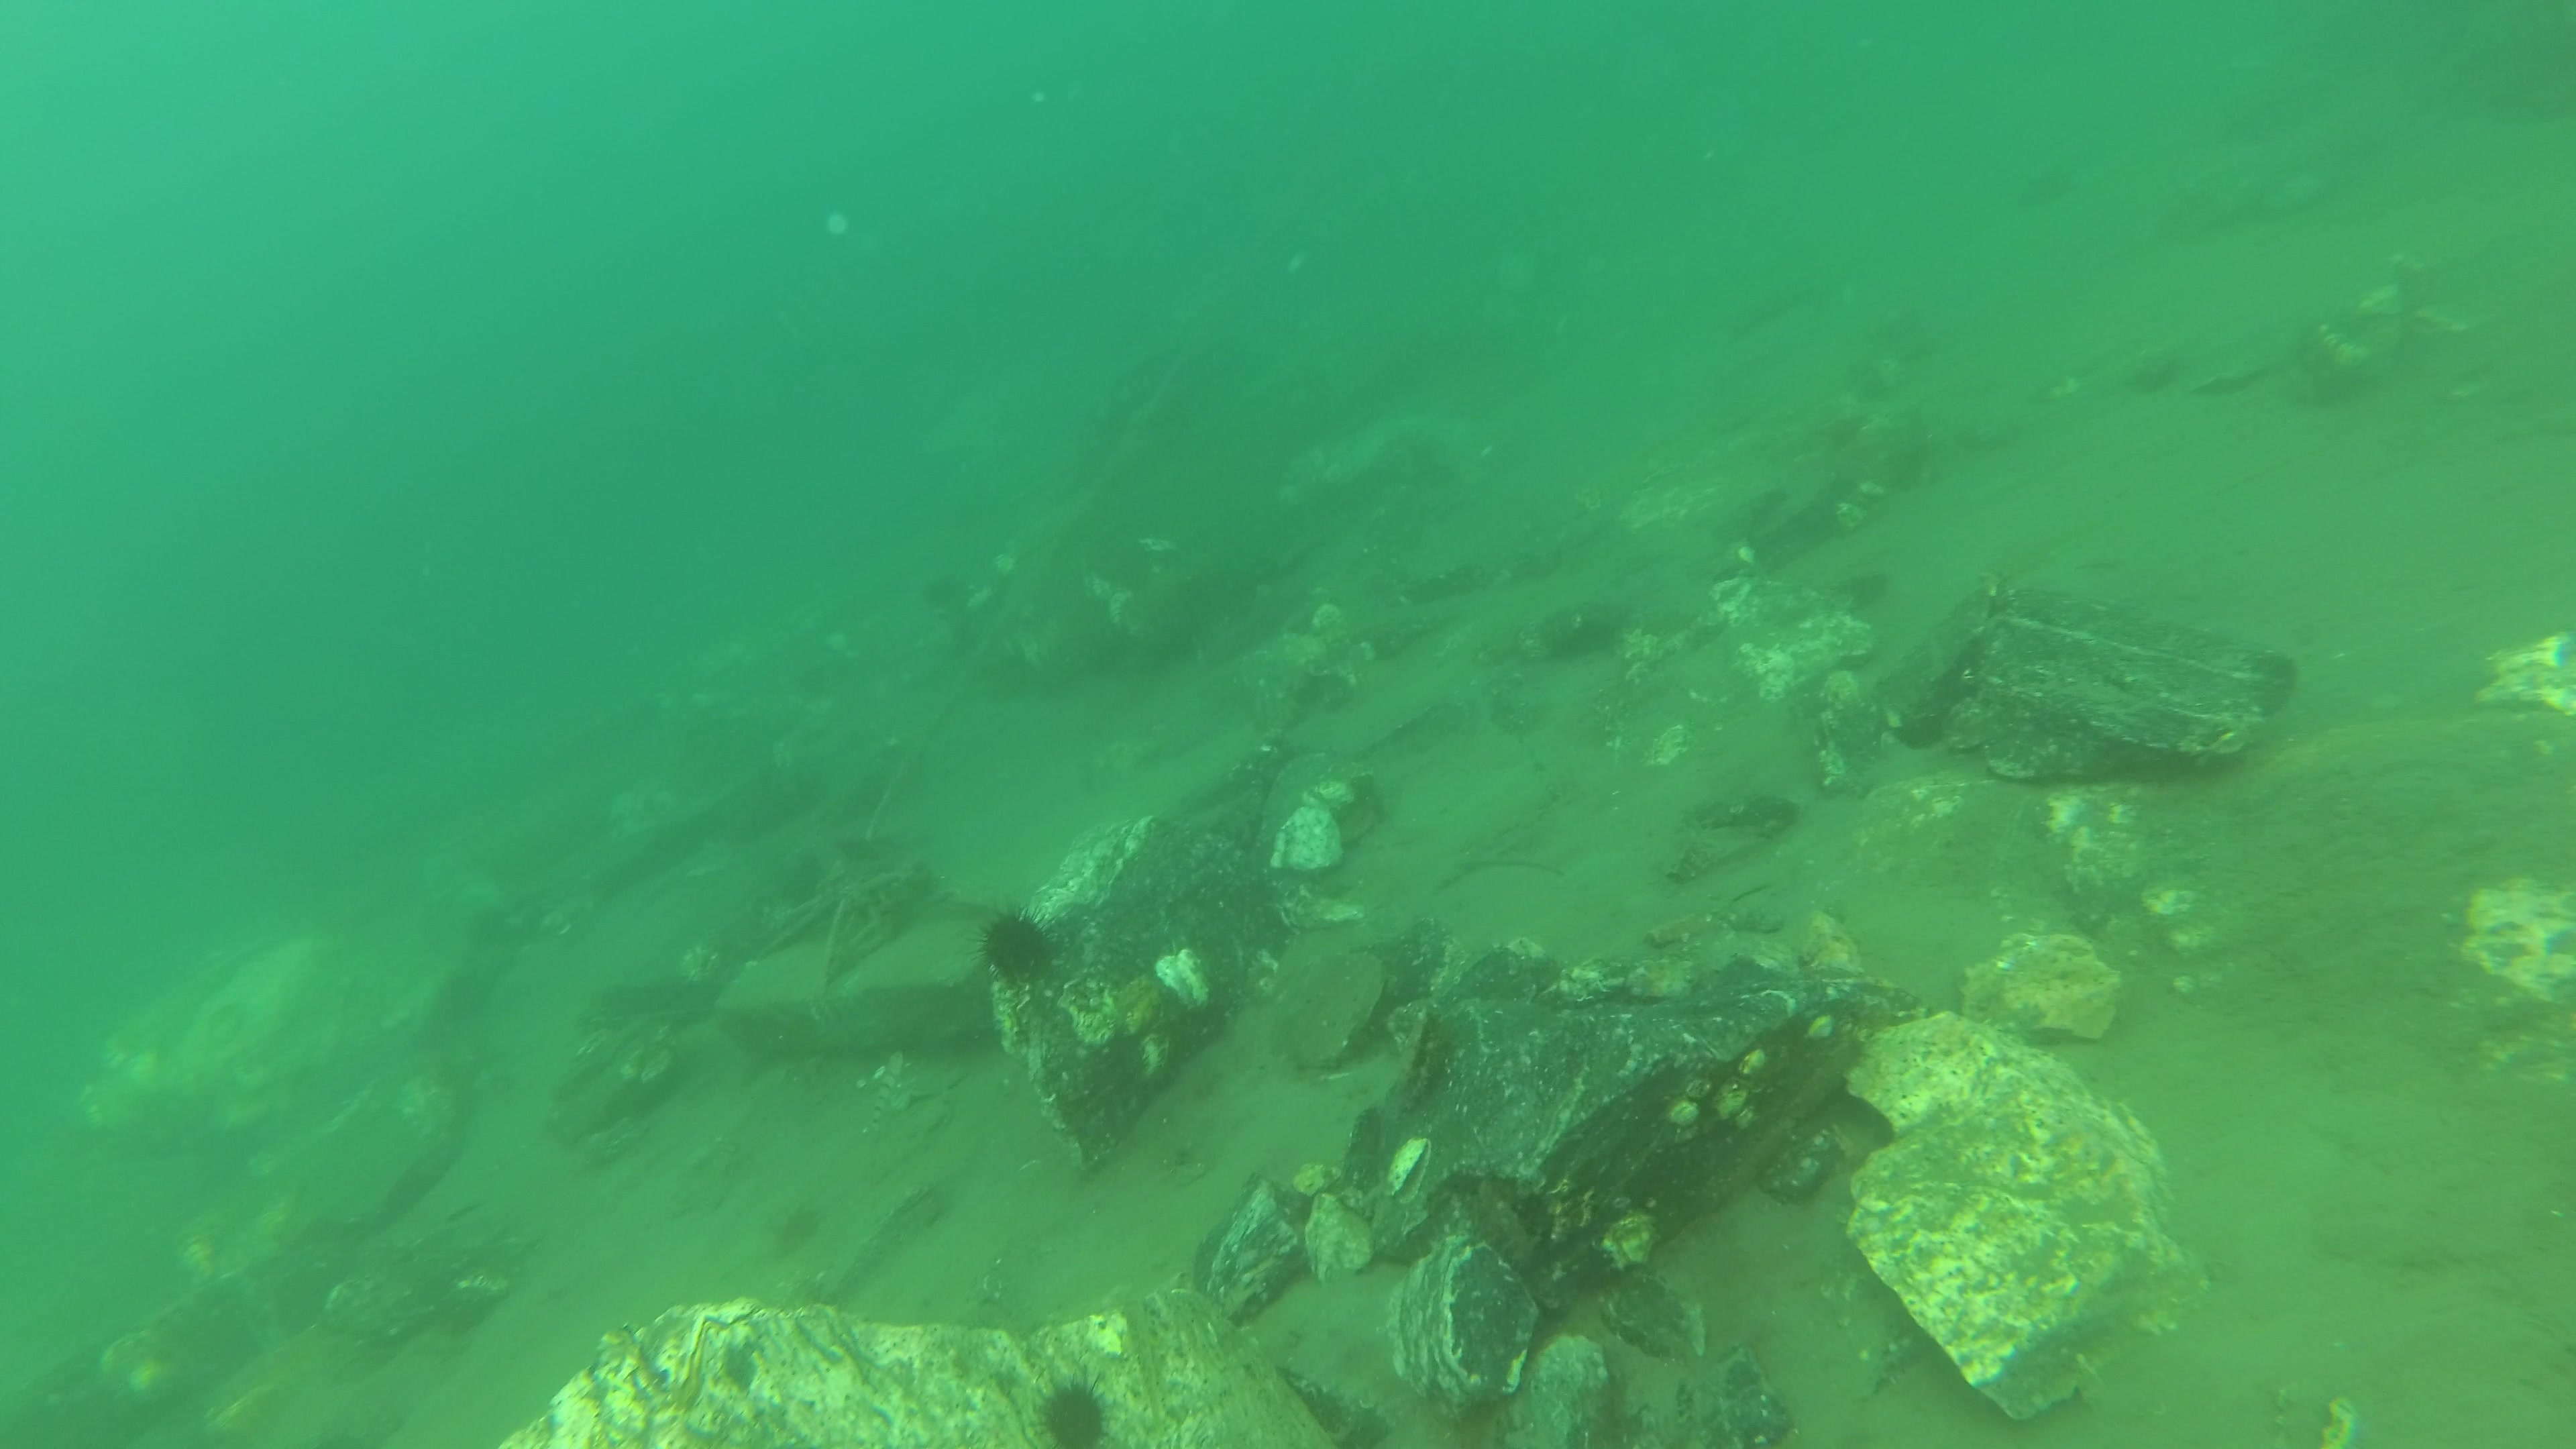echinus: (975, 904, 1060, 993), (1028, 1373, 1123, 1449), (908, 556, 987, 632)
